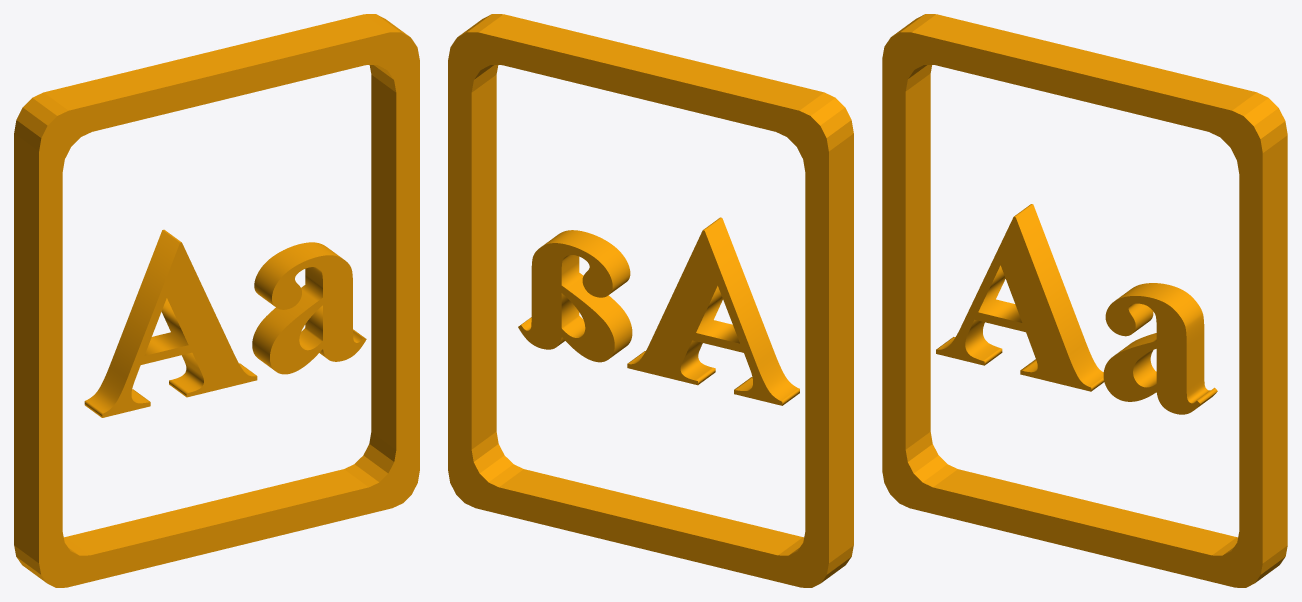
The model's file is Letter_A.gltf.
The picture shows the model from 3 angles, left to right: view 1: azimuth 30°, elevation 25°; view 2: azimuth 150°, elevation 25°; view 3: azimuth 330°, elevation 25°; orthographic projection.
Visible parts, largest first — view 1: Letters.002; view 2: Letters.002; view 3: Letters.002.
Part boxes in pixels (x1,y1,x2,y2): Letters.002: [14, 14, 419, 587]; Letters.002: [448, 14, 853, 587]; Letters.002: [882, 14, 1287, 587].
Bounding box in the file's own units: 1.25 × 1.49 × 0.1681.
